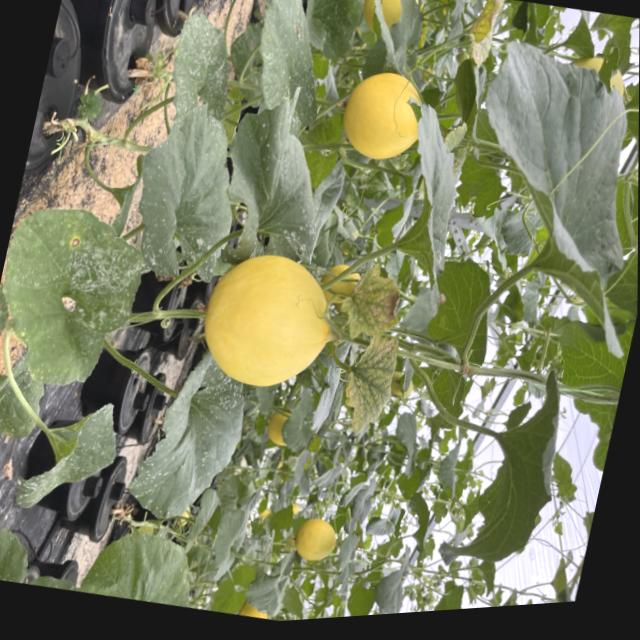CMV: (331, 327, 401, 441)
alternaria leaf blight: (0, 190, 154, 407), (335, 266, 404, 351)
downy mildew: (209, 94, 348, 277), (235, 0, 348, 152), (455, 0, 507, 74)
healthy: (433, 20, 640, 352), (464, 358, 575, 568), (384, 100, 475, 286), (418, 249, 501, 369), (595, 14, 640, 153), (289, 0, 369, 64)
powdery mildew: (0, 188, 150, 400), (119, 333, 255, 548), (118, 94, 250, 290), (8, 380, 128, 529), (156, 3, 245, 126)
